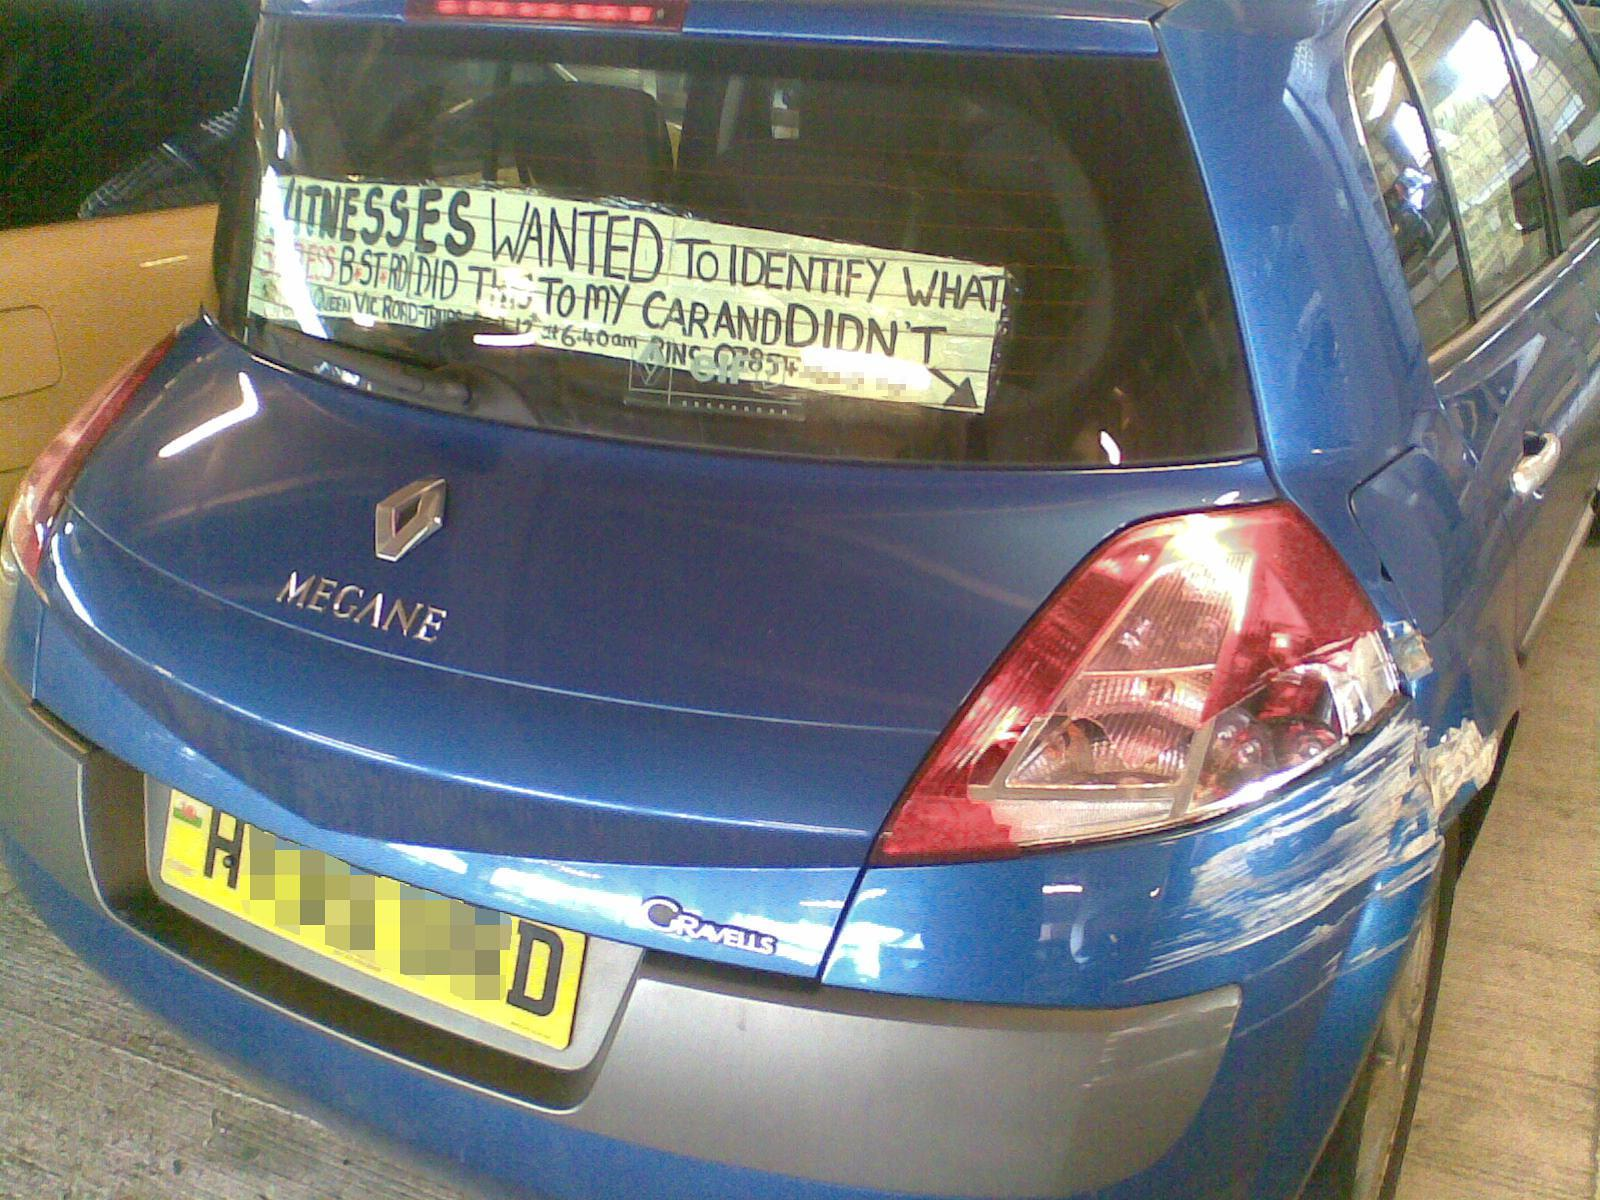quaterpanel-dent: (955, 610, 1504, 1150)
